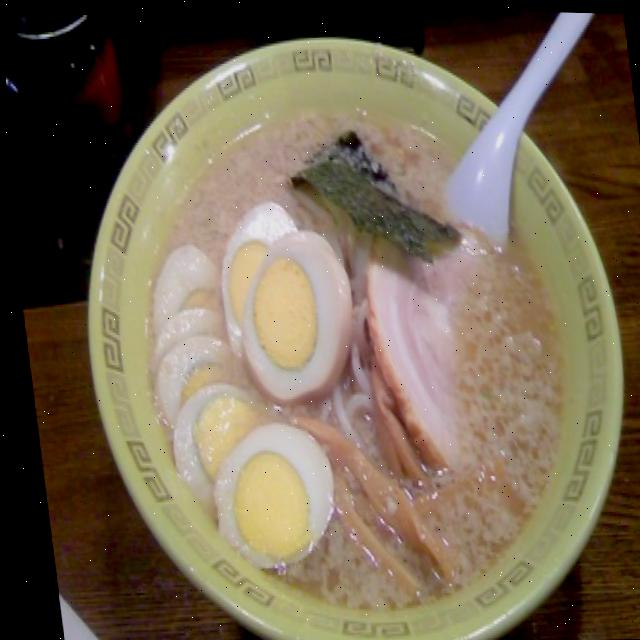面条主食: (45, 10, 640, 640)
